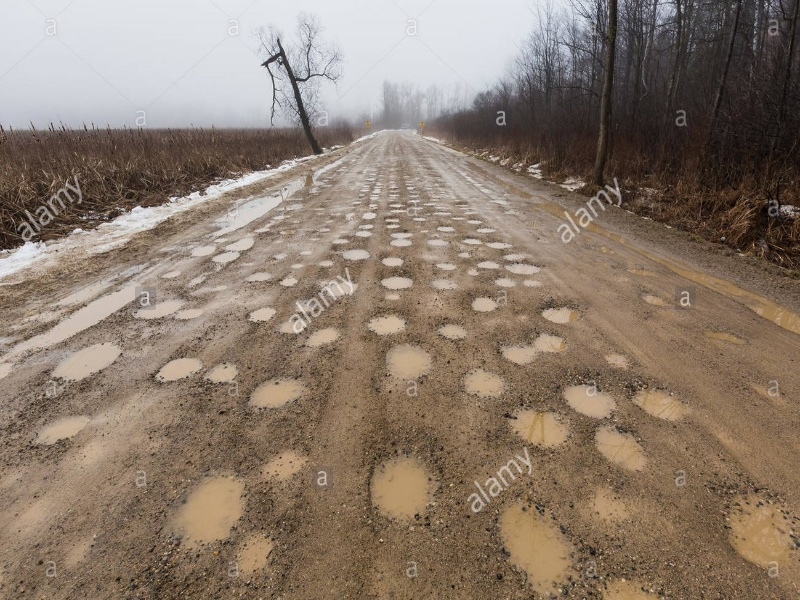pothole: (493, 496, 576, 600), (166, 470, 243, 554), (722, 491, 793, 575), (367, 450, 432, 530), (223, 525, 275, 590), (506, 400, 573, 450), (44, 340, 124, 380), (592, 421, 647, 473), (560, 377, 618, 421), (33, 407, 92, 447), (379, 340, 433, 380), (632, 384, 687, 422), (243, 373, 301, 409), (499, 331, 566, 360), (150, 355, 202, 385), (458, 365, 503, 398), (536, 300, 589, 328), (261, 449, 305, 482), (361, 309, 408, 336), (699, 324, 746, 348), (136, 297, 186, 319), (306, 323, 343, 348), (202, 361, 239, 384), (436, 318, 470, 342), (244, 303, 283, 323), (601, 350, 632, 374), (469, 291, 500, 314), (275, 317, 310, 336), (379, 273, 418, 290), (242, 270, 281, 286), (639, 287, 670, 306), (173, 302, 209, 318), (272, 277, 301, 286)
